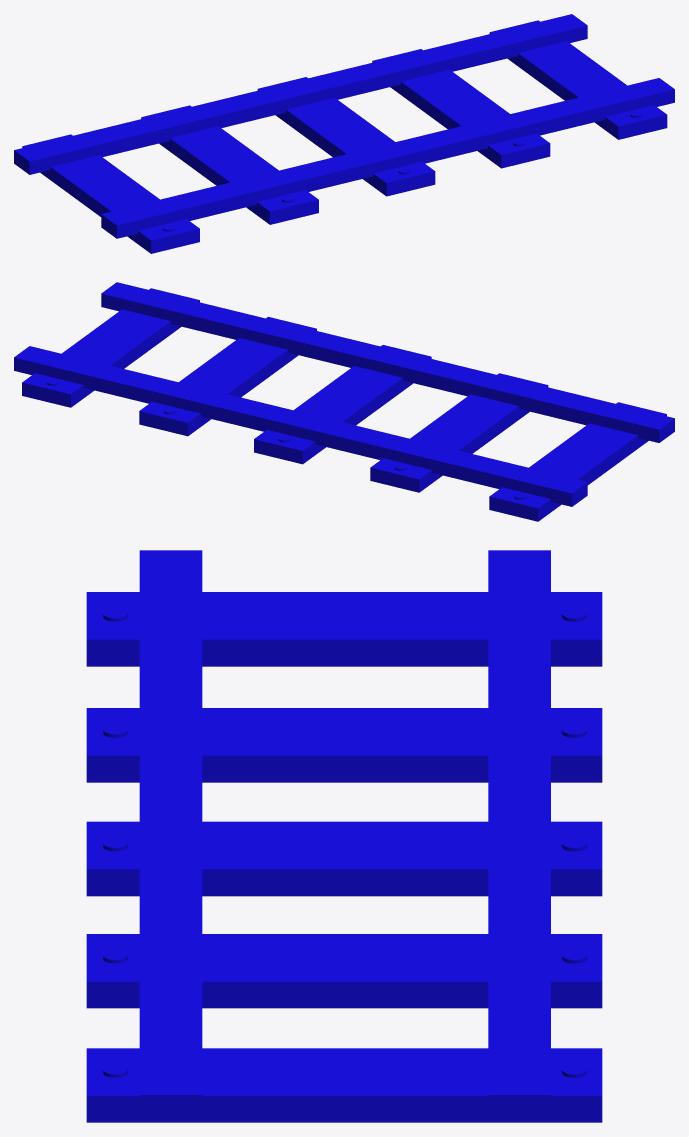
The model's file is MineTracks.fbx.
The picture shows the model from 3 angles, top to bottom: view 1: azimuth 30°, elevation 25°; view 2: azimuth 150°, elevation 25°; view 3: azimuth 270°, elevation 25°; orthographic projection. The views are drawn at different scales.
Parts seen in each view (by area): view 1: Cylinder004; view 2: Cylinder004; view 3: Cylinder004.
Part boxes in pixels (bbox=[...]): Cylinder004: bbox=[14, 14, 674, 253]; Cylinder004: bbox=[14, 282, 674, 521]; Cylinder004: bbox=[86, 550, 602, 1122].
Bounding box in the file's own units: 71.13 × 28.45 × 2.92.
